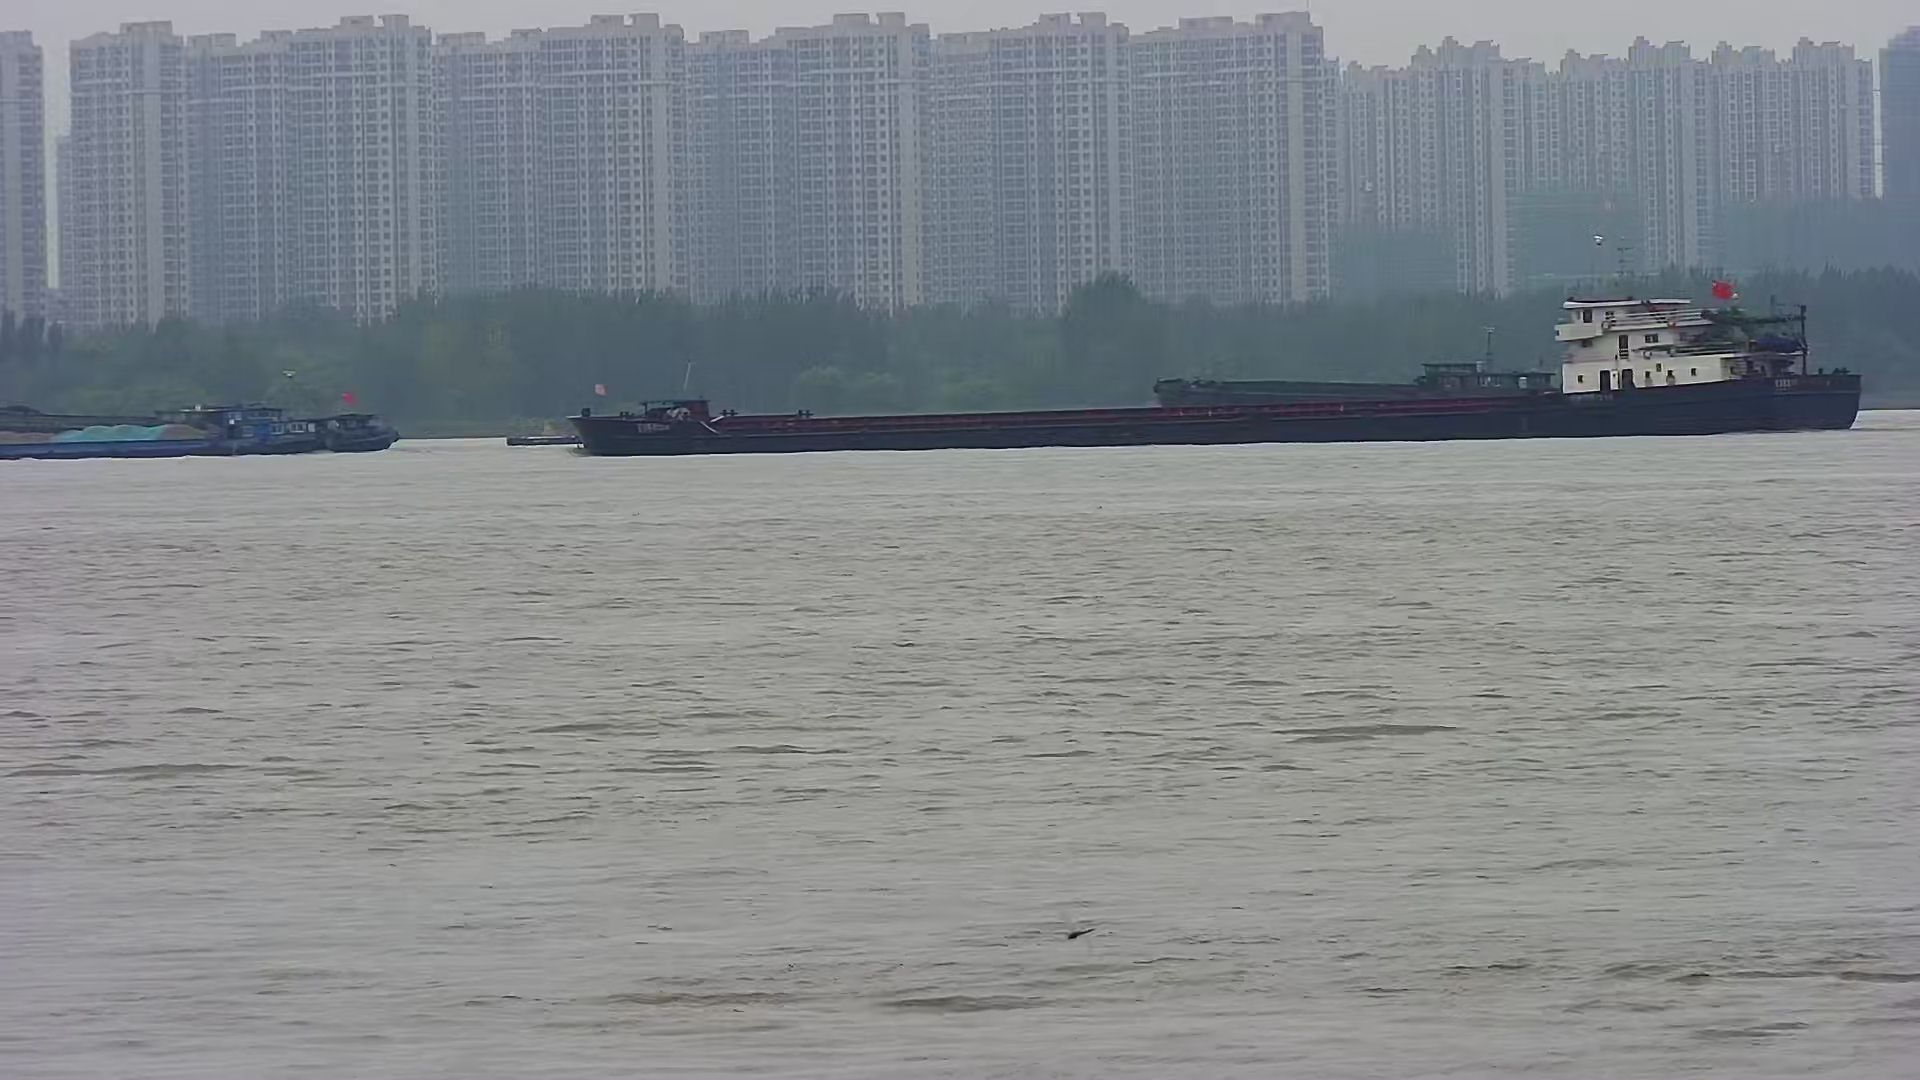boat: (498, 422, 585, 442)
ship: (567, 281, 1866, 456), (1153, 357, 1549, 436), (1, 390, 404, 463)
